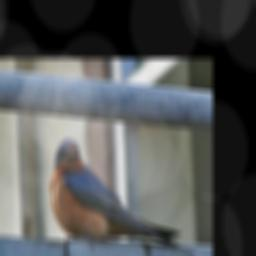Swallow: (49, 138, 196, 255)
